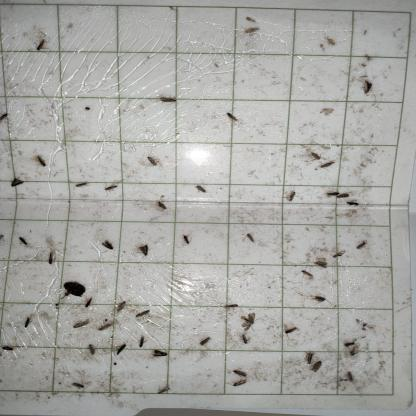prays_oleae: (96, 178, 124, 208), (152, 86, 180, 116), (226, 101, 248, 133), (142, 147, 162, 179), (308, 288, 332, 314), (136, 232, 154, 264), (272, 322, 300, 342), (6, 168, 25, 196), (34, 149, 52, 178), (280, 186, 300, 212), (238, 307, 258, 333), (300, 344, 316, 376), (69, 317, 91, 339), (306, 142, 326, 166), (241, 225, 259, 251), (0, 105, 16, 134), (132, 303, 152, 326), (20, 305, 35, 335), (0, 336, 16, 364), (308, 356, 324, 384), (36, 30, 50, 61), (112, 296, 130, 320), (96, 317, 118, 336), (68, 379, 88, 399), (353, 235, 372, 256), (14, 230, 32, 252), (218, 299, 242, 315), (332, 244, 350, 265), (344, 366, 358, 392), (297, 264, 315, 284), (194, 180, 214, 198), (97, 235, 117, 253), (150, 346, 170, 364), (359, 74, 374, 98), (42, 248, 58, 270), (113, 339, 129, 361), (320, 154, 336, 174), (313, 252, 329, 272), (154, 196, 170, 216), (180, 228, 196, 248), (84, 342, 100, 362), (338, 332, 358, 348), (198, 330, 212, 352), (346, 338, 360, 360), (232, 364, 251, 380), (324, 182, 340, 200), (333, 188, 351, 204), (136, 330, 148, 354), (84, 296, 98, 316), (75, 177, 91, 194), (344, 196, 361, 212), (237, 330, 252, 348), (230, 376, 252, 388)
